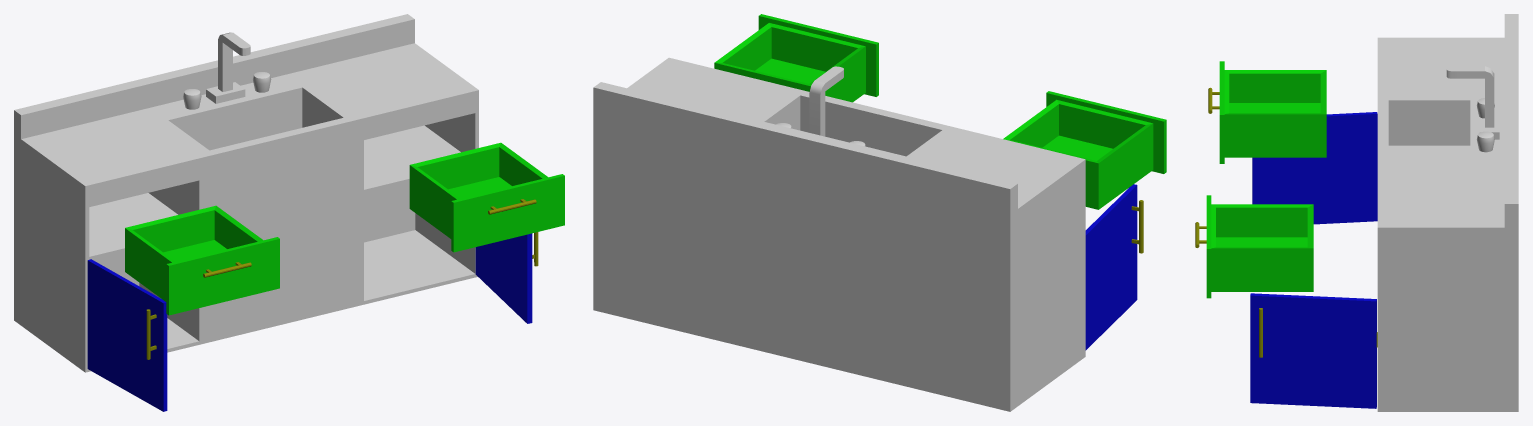
File: kitchen sink.fbx
3 renders of one model, left to right at view 1: azimuth 30°, elevation 25°; view 2: azimuth 150°, elevation 25°; view 3: azimuth 270°, elevation 25°, orthographic. The views are drawn at different scales.
Visible parts, largest first — view 1: polySurface19, polySurface20, polySurface24, polySurface25, pCylinder47, polySurface45; view 2: polySurface19, polySurface24, polySurface20, polySurface25, polySurface45; view 3: polySurface19, pCylinder47, polySurface20, polySurface24, polySurface25, polySurface45, polySurface46.
Boxes of the visible parts, bbox=[...] form: polySurface19: bbox=[14, 14, 478, 372]; polySurface20: bbox=[409, 142, 564, 252]; polySurface24: bbox=[125, 205, 279, 315]; polySurface25: bbox=[87, 259, 167, 411]; pCylinder47: bbox=[475, 232, 538, 323]; polySurface45: bbox=[206, 32, 250, 103]; polySurface19: bbox=[593, 57, 1085, 411]; polySurface24: bbox=[1003, 91, 1166, 209]; polySurface20: bbox=[714, 14, 878, 102]; polySurface25: bbox=[1085, 184, 1143, 350]; polySurface45: bbox=[809, 66, 843, 136]; polySurface19: bbox=[1377, 14, 1518, 411]; pCylinder47: bbox=[1250, 293, 1377, 408]; polySurface20: bbox=[1195, 195, 1313, 298]; polySurface24: bbox=[1208, 61, 1326, 163]; polySurface25: bbox=[1252, 112, 1377, 224]; polySurface45: bbox=[1446, 66, 1499, 139]; polySurface46: bbox=[1476, 131, 1494, 152].
Size of the model in its own units: 2.23 by 1.36 by 1.6.
